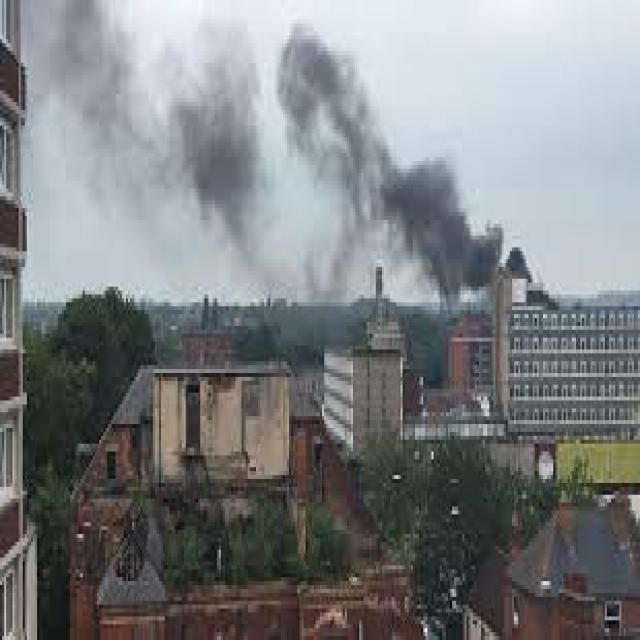smoke: (311, 54, 371, 196), (410, 166, 460, 276), (188, 115, 252, 190), (465, 234, 501, 282)
